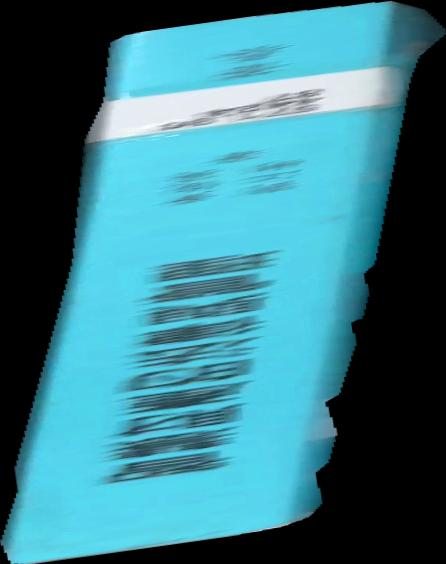reverse: (1, 1, 446, 564)
